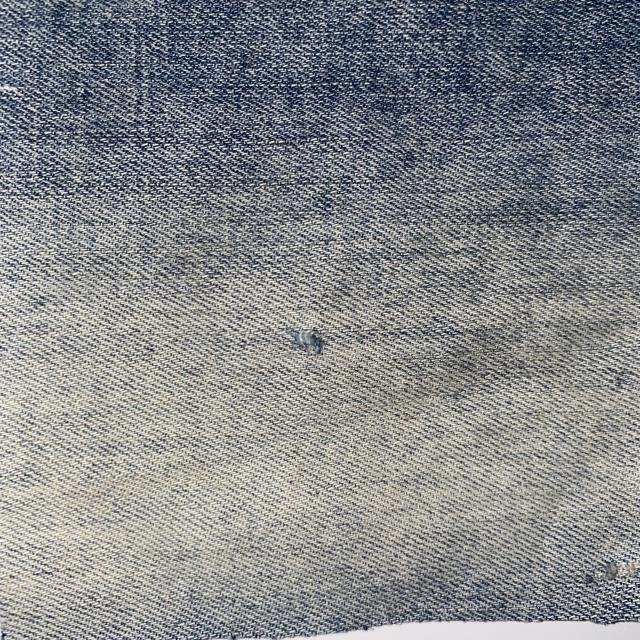Knot: (282, 327, 330, 357), (603, 559, 638, 585)
